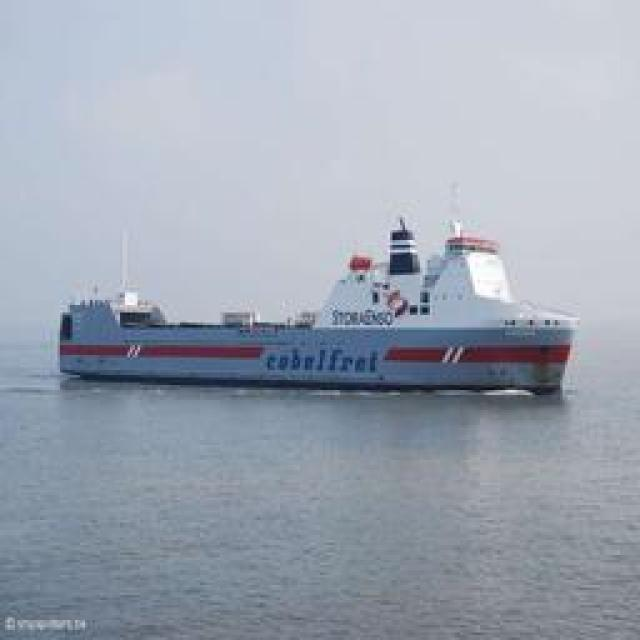CIV_Ship: (60, 202, 580, 396)
